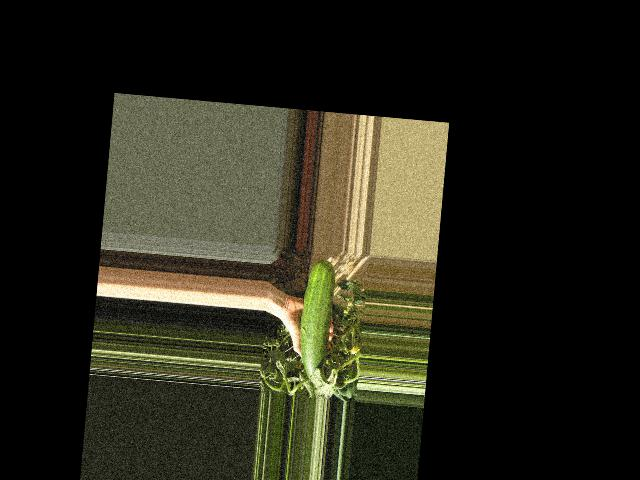cucumber: (295, 257, 337, 382)
